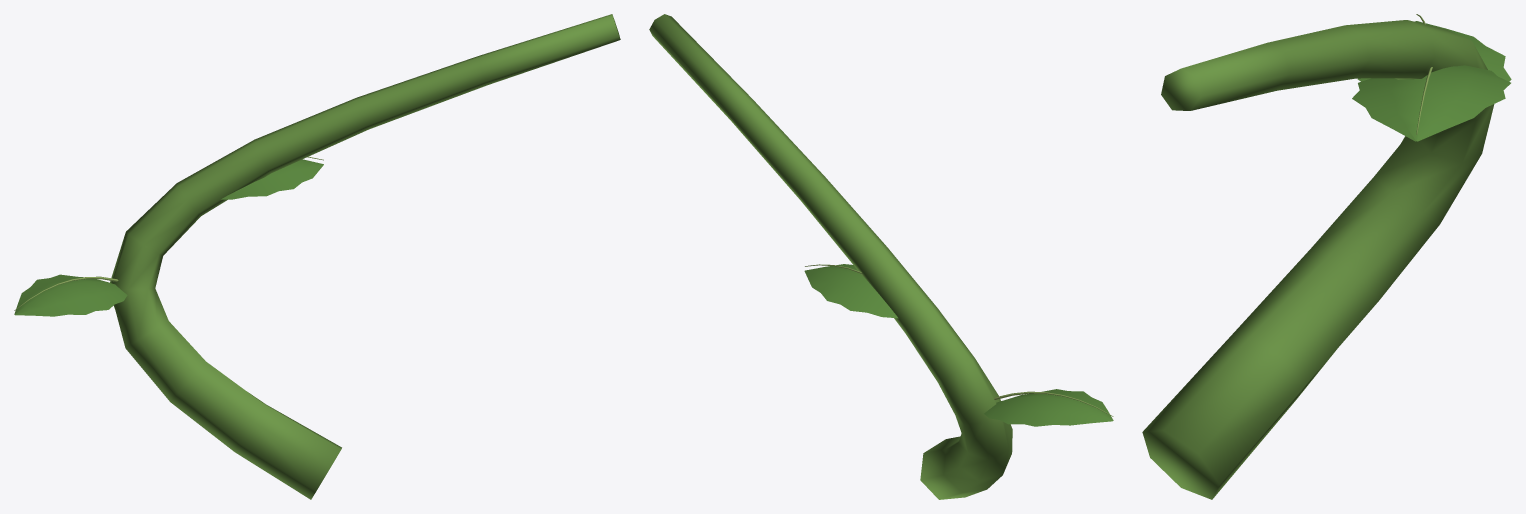
Rendered from sunflower-test-sprout-2.glb.
3 views of the same model, side by side, from view 1: azimuth 30°, elevation 25°; view 2: azimuth 150°, elevation 25°; view 3: azimuth 270°, elevation 25° (orthographic). The views are drawn at different scales.
Visible parts, largest first — view 1: Curved tapered stem; view 2: Curved tapered stem; view 3: Curved tapered stem.
Boxes of the visible parts, <box> form: Curved tapered stem: <box>14,14,620,499</box>; Curved tapered stem: <box>649,14,1113,499</box>; Curved tapered stem: <box>1142,14,1511,499</box>.
Size of the model in its own units: 0.1752 by 0.129 by 0.0661.
